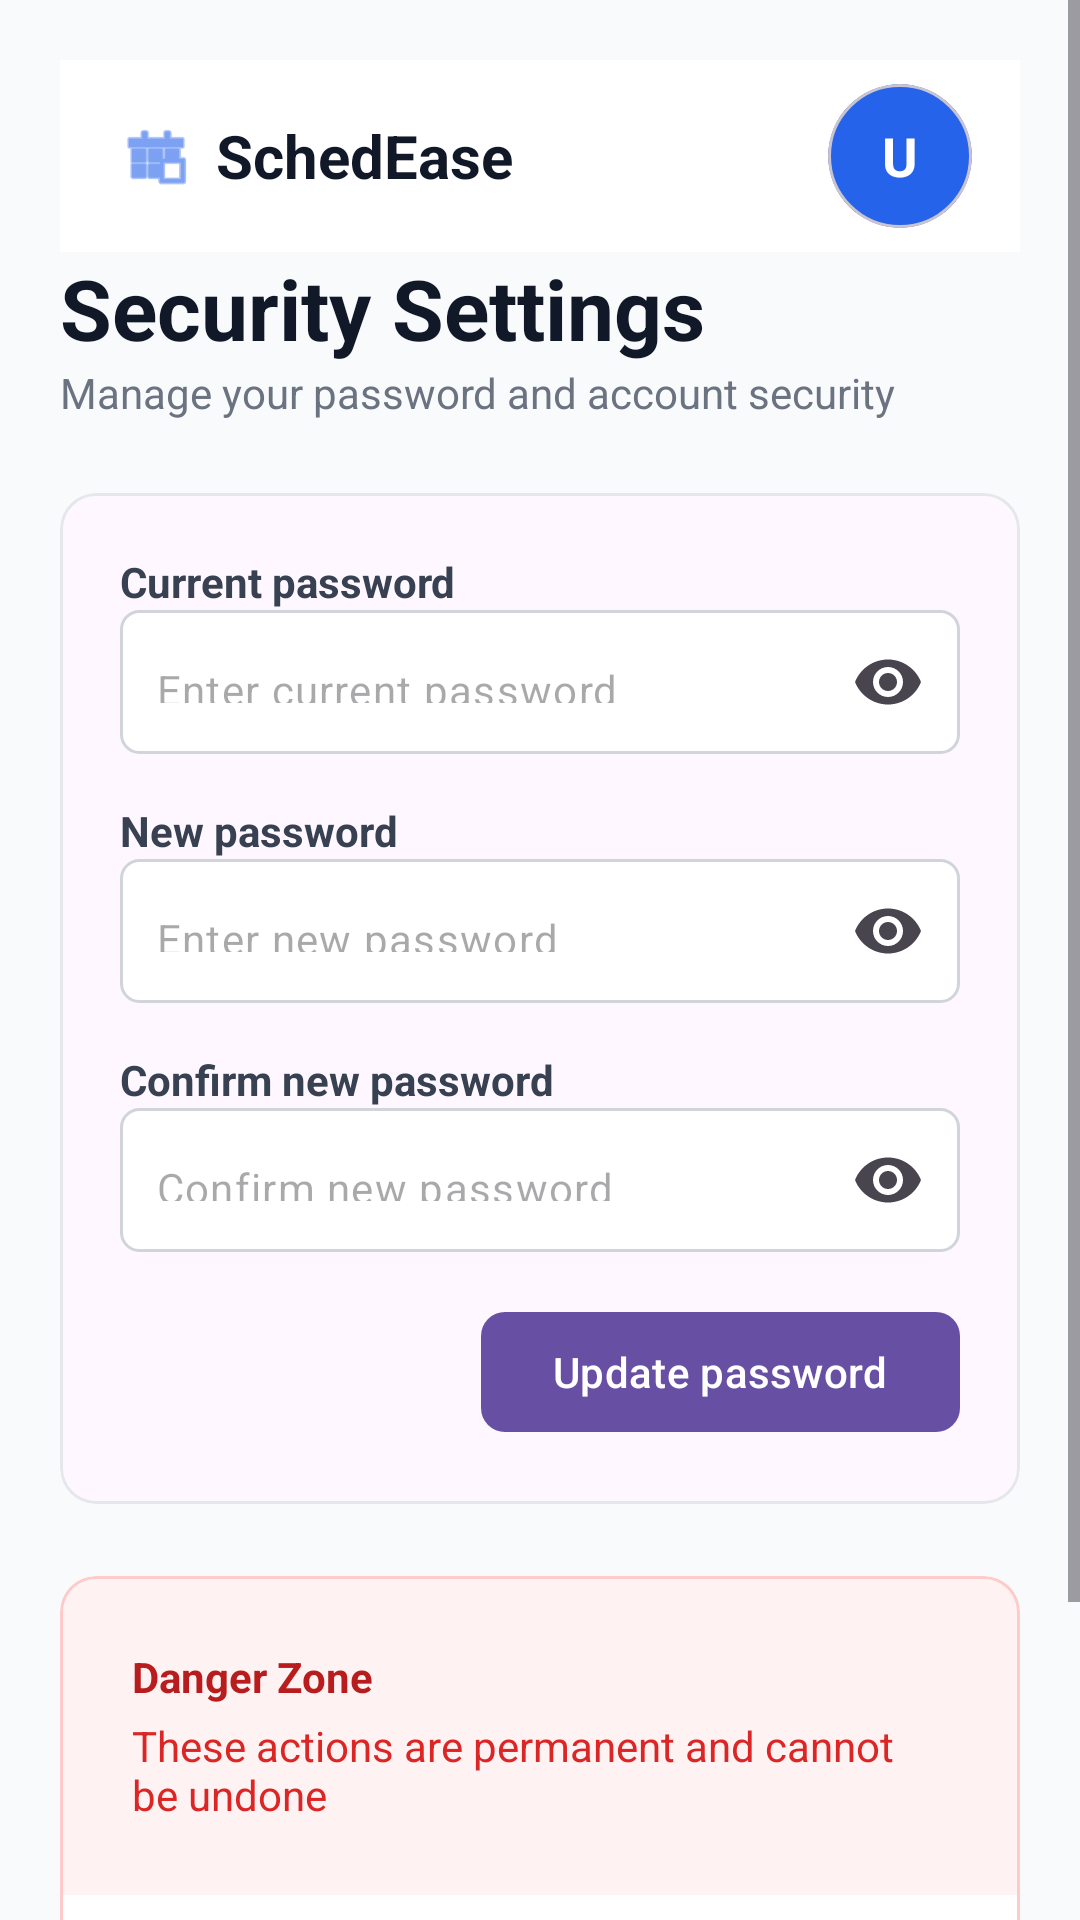

Icons on this 1080x1920 Android screen, each with the point to tap as point (x, y):
today: point (156, 157)
